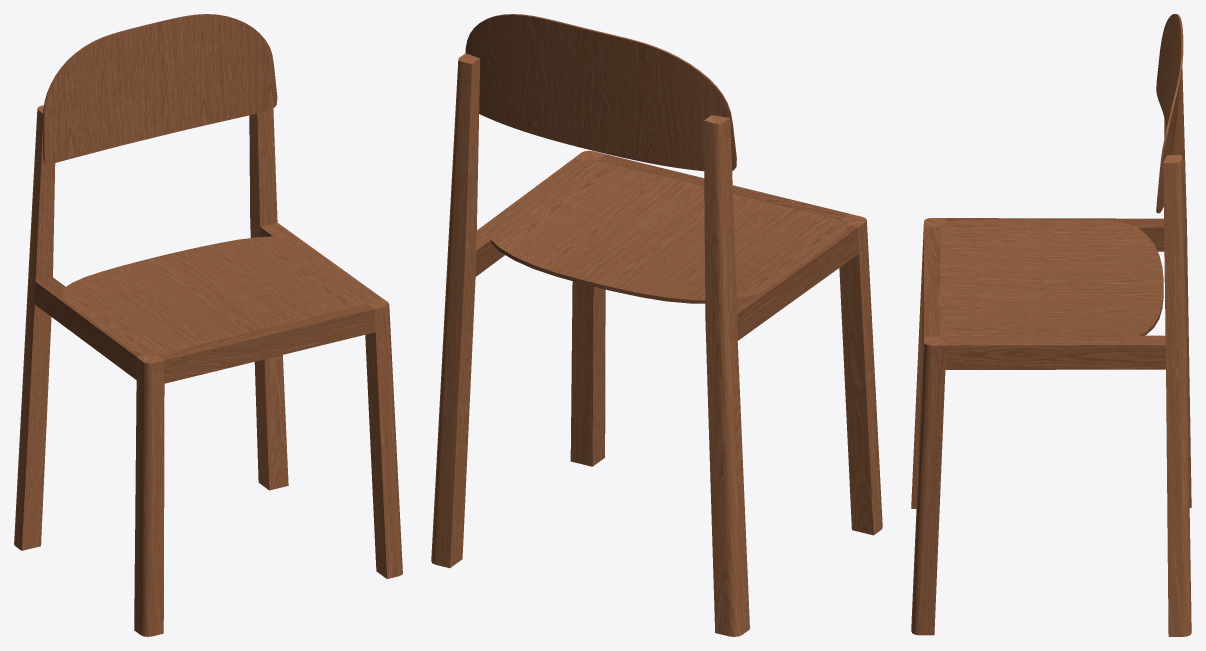
The model's file is chair.glb.
3 views of the same model, side by side, from view 1: azimuth 30°, elevation 25°; view 2: azimuth 150°, elevation 25°; view 3: azimuth 270°, elevation 25° (orthographic). The views are drawn at different scales.
Visible parts, largest first — view 1: Cube; view 2: Cube; view 3: Cube.
Part boxes in pixels (box(x1,y1,x2,y2)): Cube: box(14, 14, 402, 636); Cube: box(431, 14, 882, 636); Cube: box(911, 14, 1191, 636).
Bounding box in the file's own units: 47.03 × 82.36 × 40.
Materials: 1 (1 with a texture image).
